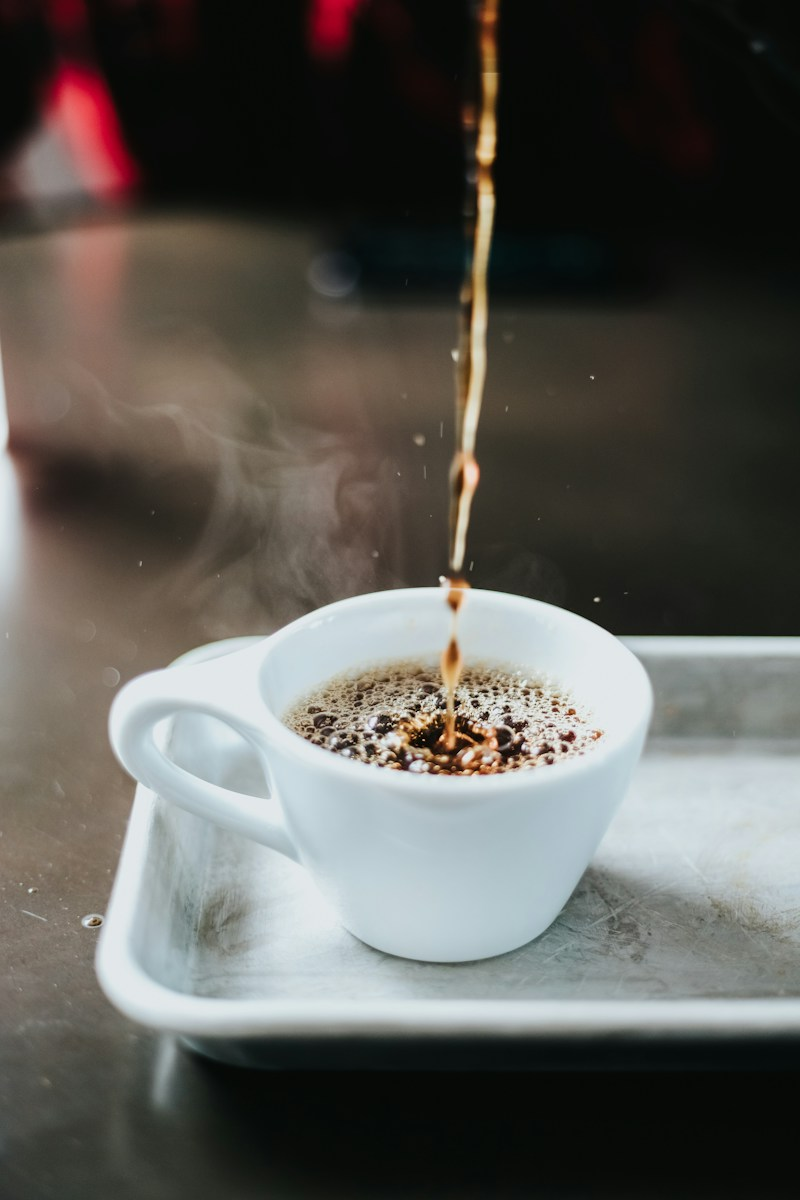cup: (103, 584, 655, 966)
